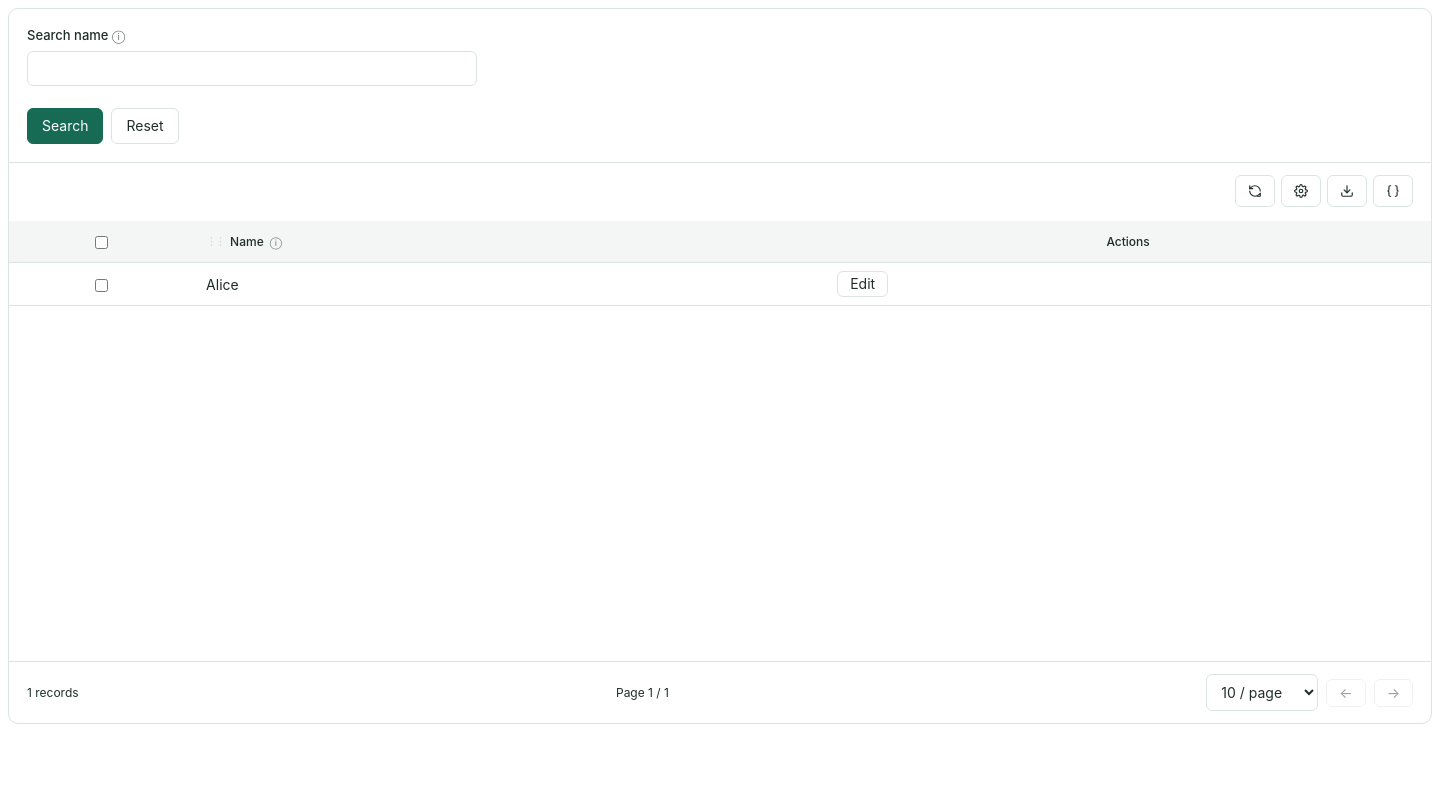
Test: table search uses built-in help when only form defaults are configured
Hover over the label "Search name ⓘ" at (76, 35), box [27,27,125,43]
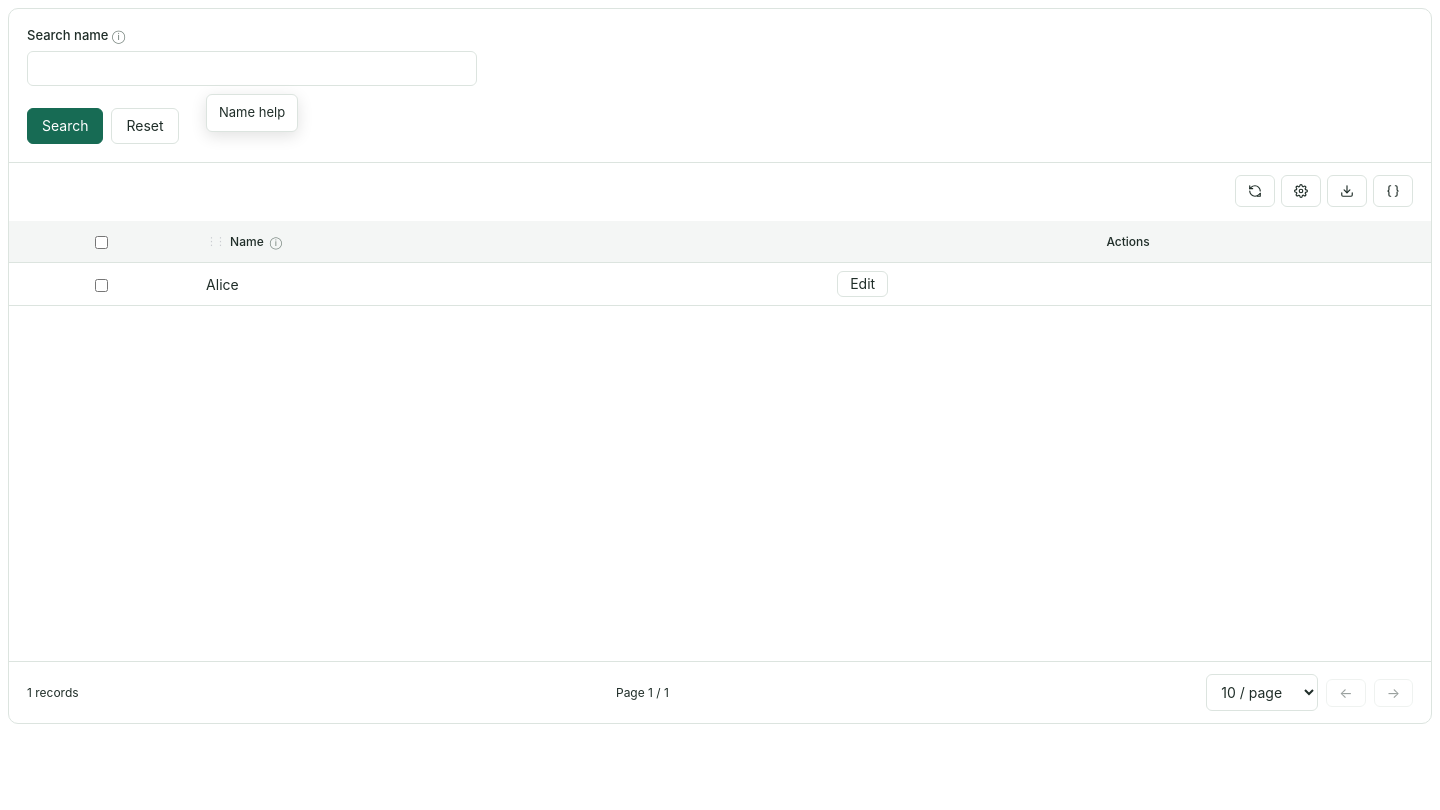
Now the tooltip reads "Name help", box [219,104,285,120]
